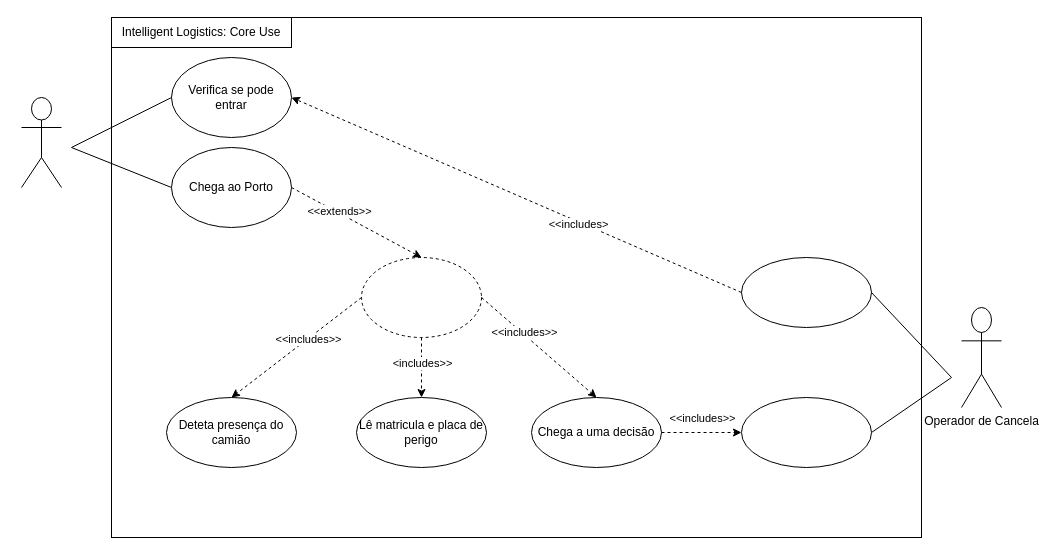
This 1056x555 diagram has some shape labels left out. The centre of each missing label's shape, as x and y in pixels:
Autoriza ou não a entrada do camião: the point at 806,292
Espera por decisão do sistema: the point at 421,297
Motorista Camião: the point at 41,142
Vê decisão do sistema: the point at 806,432
